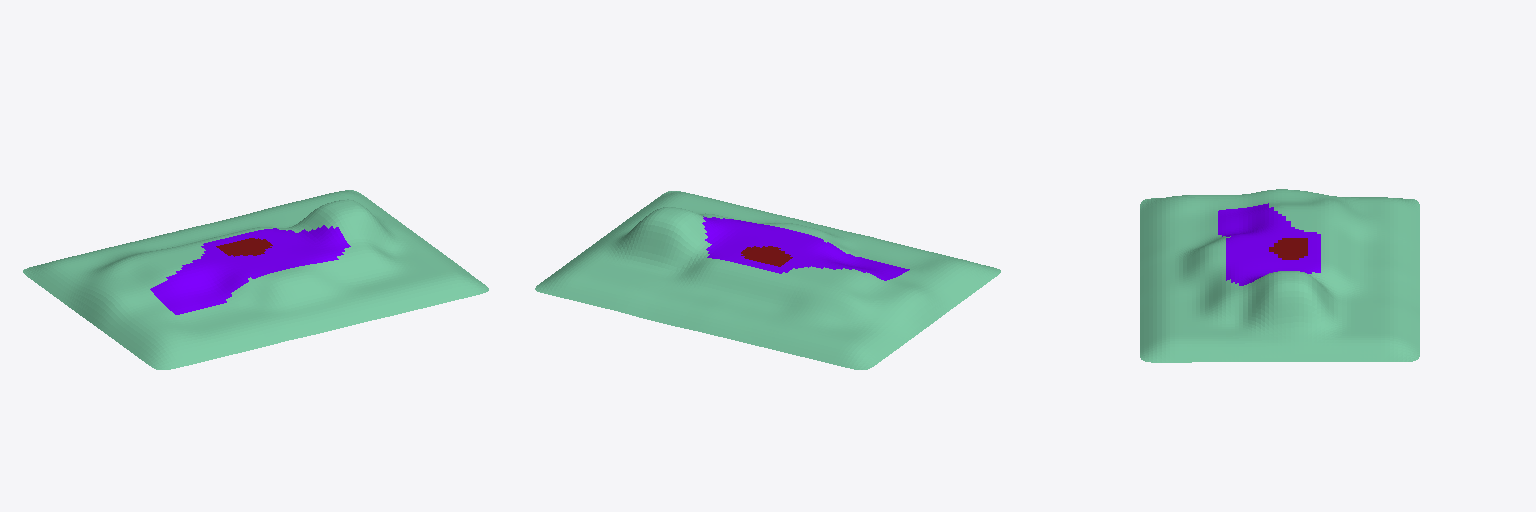
Rendered from Island.obj.
3 renders of one model, left to right at view 1: azimuth 30°, elevation 25°; view 2: azimuth 150°, elevation 25°; view 3: azimuth 270°, elevation 25°, orthographic.
Visible parts, largest first — view 1: Island.obj; view 2: Island.obj; view 3: Island.obj.
Part boxes in pixels (left/top/right/bottom): Island.obj: left=23, top=190, right=488, bottom=369; Island.obj: left=535, top=191, right=1000, bottom=369; Island.obj: left=1140, top=189, right=1419, bottom=362.
Size of the model in its own units: 180 by 25.5 by 130.